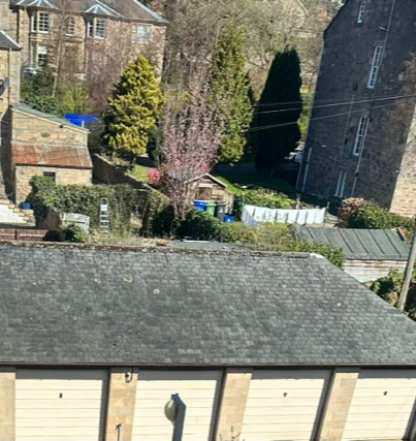tree: (247, 43, 312, 180), (162, 69, 219, 220), (192, 29, 253, 156), (100, 46, 164, 166)
